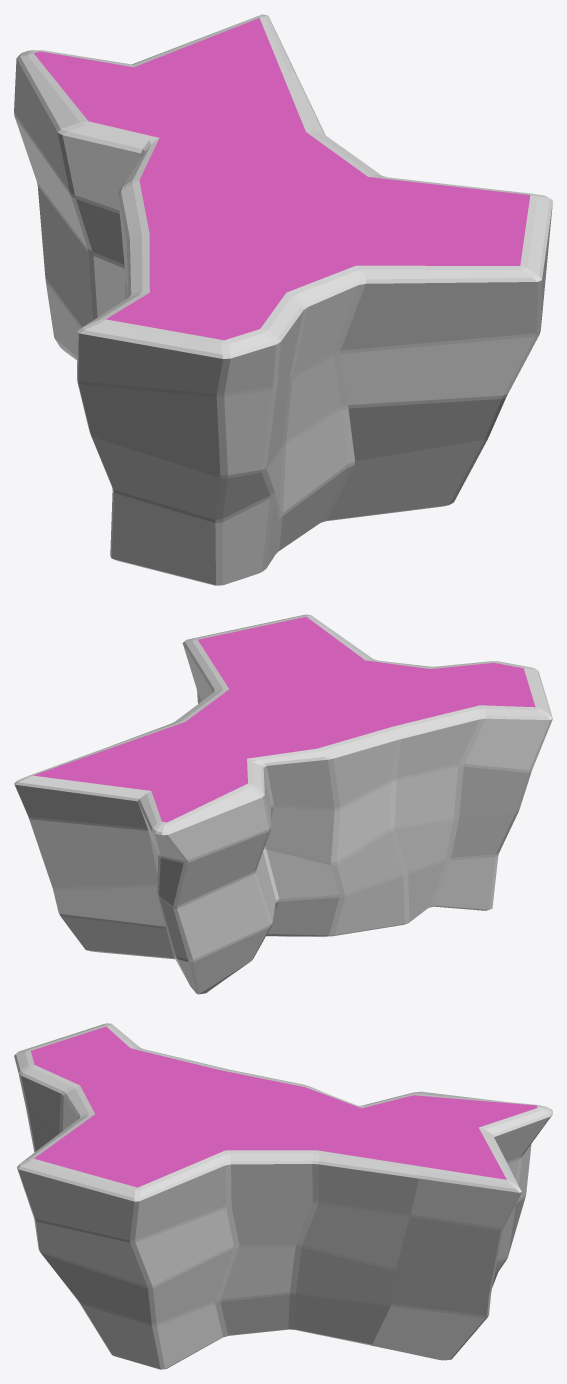
File: TerrianIsland2_Low.fbx
3 views of the same model, one above another, from view 1: azimuth 30°, elevation 25°; view 2: azimuth 150°, elevation 25°; view 3: azimuth 270°, elevation 25° (orthographic). The views are drawn at different scales.
Parts seen in each view (by area): view 1: TerrianIsland.002_Low; view 2: TerrianIsland.002_Low; view 3: TerrianIsland.002_Low.
Boxes of the visible parts, x1,y1,x2,y2 form: TerrianIsland.002_Low: [14, 14, 552, 585]; TerrianIsland.002_Low: [14, 614, 552, 994]; TerrianIsland.002_Low: [14, 1023, 552, 1369].
Size of the model in its own units: 1539 by 833 by 1972.
